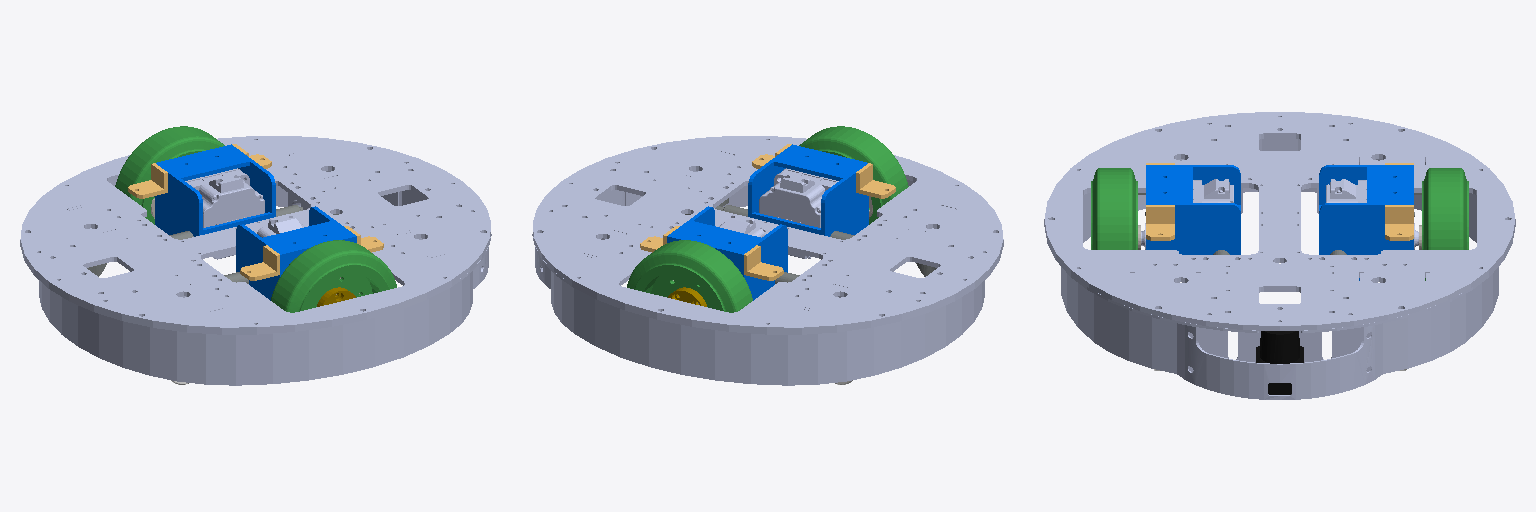
--- Render facts (derived) ---
The picture shows the robot from 3 angles, left to right: view 1: azimuth 30°, elevation 25°; view 2: azimuth 150°, elevation 25°; view 3: azimuth 270°, elevation 25°; orthographic projection.
Model okrobot_base with 49 links and 48 joints (10 continuous, 38 fixed), rooted at base_footprint, posed all joints at 0.
Links seen in each view (by area): view 1: base_link, circle_base_Link, motor_plate_frame_Link2, right_wheel_Link, motor_plate_frame_Link, left_wheel_Link, motor_back_Link2, side_plate_Link, side_plate_Link2, motor_back_Link; view 2: base_link, circle_base_Link, motor_plate_frame_Link, left_wheel_Link, motor_plate_frame_Link2, right_wheel_Link, motor_back_Link, side_plate_Link, side_plate_Link2, motor_back_Link2; view 3: base_link, circle_base_Link, circle_forward_Link, motor_plate_frame_Link2, motor_plate_frame_Link, left_wheel_Link, right_wheel_Link, laser_base_Link, side_plate_Link1, side_plate_Link3, motor_back_Link2, motor_back_Link.
Link boxes in pixels (x1,y1,x2,y2): base_link: (20,136,490,331); circle_base_Link: (20,171,491,385); motor_plate_frame_Link2: (155,144,275,236); right_wheel_Link: (271,240,396,312); motor_plate_frame_Link: (236,206,356,300); left_wheel_Link: (115,126,224,224); motor_back_Link2: (191,172,264,259); side_plate_Link: (240,245,279,280); side_plate_Link2: (128,163,167,198); motor_back_Link: (257,214,304,237); base_link: (533,136,1003,331); circle_base_Link: (532,171,1003,385); motor_plate_frame_Link: (748,144,868,236); left_wheel_Link: (627,240,752,312); motor_plate_frame_Link2: (667,206,787,300); right_wheel_Link: (799,126,908,224); motor_back_Link: (759,172,832,258); side_plate_Link: (856,163,895,198); side_plate_Link2: (744,245,783,280); motor_back_Link2: (719,214,765,237); base_link: (1044,112,1515,330); circle_base_Link: (1044,139,1515,373); circle_forward_Link: (1177,323,1382,399); motor_plate_frame_Link2: (1319,165,1413,280); motor_plate_frame_Link: (1146,165,1240,254); left_wheel_Link: (1422,168,1468,280); right_wheel_Link: (1091,168,1137,249); laser_base_Link: (1256,331,1303,394); side_plate_Link1: (1146,205,1174,240); side_plate_Link3: (1385,205,1413,240); motor_back_Link2: (1326,179,1365,202); motor_back_Link: (1194,179,1233,202).
Size in the robot's own frame: 0.555 by 0.5009 by 0.15 metres.
Meshes: 48 distinct files referenced, 47 mesh visuals loaded (47 binary STL); not drawn: 1 (reference not matched to a file when rendering).

The robot description file, URDF, robot "okrobot_base":
<?xml version="1.0" ?>
<robot
  name="okrobot_base">
  <link 
    name="base_footprint"/>
    <joint name="base_joint" type="fixed">
      <origin xyz="0 0 0.098" rpy="0 0 0" />
      <parent link="base_footprint"/>
      <child link="base_link" />
    </joint>
  <link
    name="base_link">
    <inertial>
      <origin
        xyz="-0.00018628340886144 1.53582507695403E-17 1.06192210597669E-19"
        rpy="0 0 0" />
      <mass
        value="0.865380956979762" />
      <inertia
        ixx="0.0142073495738409"
        ixy="5.27916405992731E-19"
        ixz="1.83297532949466E-18"
        iyy="0.0213255607737328"
        iyz="-3.52986998278532E-21"
        izz="0.0355277180618319" />
    </inertial>
    <visual>
      <origin
        xyz="0 0 0"
        rpy="0 0 0" />
      <geometry>
        <mesh
          filename="package://okrobot_description/meshes/okrobot_base/base_link.STL" />
      </geometry>
      <material
        name="">
        <color
          rgba="0.792156862745098 0.819607843137255 0.933333333333333 1" />
      </material>
    </visual>
    <collision>
      <origin
        xyz="0 0 0"
        rpy="0 0 0" />
      <geometry>
        <mesh
          filename="package://okrobot_description/meshes/okrobot_base/base_link.STL" />
      </geometry>
    </collision>
  </link>
  <link
    name="universal_wheel_seat_Link">
    <inertial>
      <origin
        xyz="-2.77555756156289E-17 -1.38777878078145E-17 -0.0130913380587656"
        rpy="0 0 0" />
      <mass
        value="0.0271543501807284" />
      <inertia
        ixx="1.99446658137709E-05"
        ixy="-1.59266733775314E-21"
        ixz="6.71426720479861E-22"
        iyy="6.77808483444652E-06"
        iyz="1.26265909795558E-21"
        izz="2.48042990210257E-05" />
    </inertial>
    <visual>
      <origin
        xyz="0 0 0"
        rpy="0 0 0" />
      <geometry>
        <mesh
          filename="package://okrobot_description/meshes/okrobot_base/universal_wheel_seat_Link.STL" />
      </geometry>
      <material
        name="">
        <color
          rgba="0.792156862745098 0.819607843137255 0.933333333333333 1" />
      </material>
    </visual>
    <collision>
      <origin
        xyz="0 0 0"
        rpy="0 0 0" />
      <geometry>
        <mesh
          filename="package://okrobot_description/meshes/okrobot_base/universal_wheel_seat_Link.STL" />
      </geometry>
    </collision>
  </link>
  <joint
    name="universal_wheel_seat_joint"
    type="fixed">
    <origin
      xyz="0.145 -0.12175 -0.00299999999999982"
      rpy="2.99234774727016E-65 -8.94466792300553E-17 -5.37368846090207E-34" />
    <parent
      link="base_link" />
    <child
      link="universal_wheel_seat_Link" />
    <axis
      xyz="0 0 0" />
  </joint>
  <link
    name="universal_wheel_base_Link">
    <inertial>
      <origin
        xyz="2.77555756156289E-17 0 -0.0042303117525837"
        rpy="0 0 0" />
      <mass
        value="0.0153964635164713" />
      <inertia
        ixx="3.79178475123496E-06"
        ixy="-1.7319094075329E-21"
        ixz="-3.04312357539511E-22"
        iyy="2.6828760693717E-06"
        iyz="-5.79339002434305E-23"
        izz="5.89114138712654E-06" />
    </inertial>
    <visual>
      <origin
        xyz="0 0 0"
        rpy="0 0 0" />
      <geometry>
        <mesh
          filename="package://okrobot_description/meshes/okrobot_base/universal_wheel_base_Link.STL" />
      </geometry>
      <material
        name="">
        <color
          rgba="0.529411764705882 0.549019607843137 0.549019607843137 1" />
      </material>
    </visual>
    <collision>
      <origin
        xyz="0 0 0"
        rpy="0 0 0" />
      <geometry>
        <mesh
          filename="package://okrobot_description/meshes/okrobot_base/universal_wheel_base_Link.STL" />
      </geometry>
    </collision>
  </link>
  <joint
    name="universal_wheel_base_joint"
    type="fixed">
    <origin
      xyz="0 0 -0.019"
      rpy="-9.35108671021913E-67 0 0" />
    <parent
      link="universal_wheel_seat_Link" />
    <child
      link="universal_wheel_base_Link" />
    <axis
      xyz="0 0 0" />
  </joint>
  <link
    name="universal_wheel_link_Link">
    <inertial>
      <origin
        xyz="0.00834757352565724 1.09108839628502E-06 -0.0118156292161553"
        rpy="0 0 0" />
      <mass
        value="0.012085171004579" />
      <inertia
        ixx="4.68160467144296E-06"
        ixy="-1.036330235877E-10"
        ixz="-1.22134830387681E-06"
        iyy="4.57707671214091E-06"
        iyz="2.7400639854387E-11"
        izz="4.67278533436171E-06" />
    </inertial>
    <visual>
      <origin
        xyz="0 0 0"
        rpy="0 0 0" />
      <geometry>
        <mesh
          filename="package://okrobot_description/meshes/okrobot_base/universal_wheel_link_Link.STL" />
      </geometry>
      <material
        name="">
        <color
          rgba="0.529411764705882 0.549019607843137 0.549019607843137 1" />
      </material>
    </visual>
    <collision>
      <origin
        xyz="0 0 0"
        rpy="0 0 0" />
      <geometry>
        <mesh
          filename="package://okrobot_description/meshes/okrobot_base/universal_wheel_link_Link.STL" />
      </geometry>
    </collision>
  </link>
  <joint
    name="universal_wheel_link_joint"
    type="continuous">
    <origin
      xyz="0 0 -0.0130000000000002"
      rpy="-9.35108671021913E-67 0 0" />
    <parent
      link="universal_wheel_base_Link" />
    <child
      link="universal_wheel_link_Link" />
    <axis
      xyz="0 0 -1" />
  </joint>
  <link
    name="universal_wheel_Link">
    <inertial>
      <origin
        xyz="-2.77555756156289E-17 4.16333634234434E-17 0"
        rpy="0 0 0" />
      <mass
        value="0.0482493837796942" />
      <inertia
        ixx="1.00224646248544E-05"
        ixy="1.0366645772579E-21"
        ixz="-7.19091022089001E-23"
        iyy="1.49297011222147E-05"
        iyz="-2.28750148250211E-21"
        izz="1.00224646248544E-05" />
    </inertial>
    <visual>
      <origin
        xyz="0 0 0"
        rpy="0 0 0" />
      <geometry>
        <mesh
          filename="package://okrobot_description/meshes/okrobot_base/universal_wheel_Link.STL" />
      </geometry>
      <material
        name="">
        <color
          rgba="1 1 1 1" />
      </material>
    </visual>
    <collision>
      <origin
        xyz="0 0 0"
        rpy="0 0 0" />
      <geometry>
        <mesh
          filename="package://okrobot_description/meshes/okrobot_base/universal_wheel_Link.STL" />
      </geometry>
    </collision>
  </link>
  <joint
    name="universal_wheel_joint"
    type="continuous">
    <origin
      xyz="0.023 0 -0.035"
      rpy="-9.35108671021913E-67 0 0" />
    <parent
      link="universal_wheel_link_Link" />
    <child
      link="universal_wheel_Link" />
    <axis
      xyz="0 1 0" />
  </joint>
  <link
    name="universal_wheel_seat_Link1">
    <inertial>
      <origin
        xyz="0 -1.38777878078145E-17 -0.0130913380587656"
        rpy="0 0 0" />
      <mass
        value="0.0271543501807284" />
      <inertia
        ixx="1.99446658137709E-05"
        ixy="-2.35678101241442E-21"
        ixz="-5.54046762392719E-22"
        iyy="6.77808483444652E-06"
        iyz="1.76397458692077E-22"
        izz="2.48042990210257E-05" />
    </inertial>
    <visual>
      <origin
        xyz="0 0 0"
        rpy="0 0 0" />
      <geometry>
        <mesh
          filename="package://okrobot_description/meshes/okrobot_base/universal_wheel_seat_Link1.STL" />
      </geometry>
      <material
        name="">
        <color
          rgba="0.792156862745098 0.819607843137255 0.933333333333333 1" />
      </material>
    </visual>
    <collision>
      <origin
        xyz="0 0 0"
        rpy="0 0 0" />
      <geometry>
        <mesh
          filename="package://okrobot_description/meshes/okrobot_base/universal_wheel_seat_Link1.STL" />
      </geometry>
    </collision>
  </link>
  <joint
    name="universal_wheel_seat_joint1"
    type="fixed">
    <origin
      xyz="0.145 0.12225 -0.00299999999999984"
      rpy="2.99234774727016E-65 -8.94466792300553E-17 -5.37368846090207E-34" />
    <parent
      link="base_link" />
    <child
      link="universal_wheel_seat_Link1" />
    <axis
      xyz="0 0 0" />
  </joint>
  <link
    name="universal_wheel_base_Link1">
    <inertial>
      <origin
        xyz="2.77555756156289E-17 0 -0.00423031175258369"
        rpy="0 0 0" />
      <mass
        value="0.0153964635164713" />
      <inertia
        ixx="3.79178475123496E-06"
        ixy="-3.36042123849667E-22"
        ixz="-4.18643845963271E-22"
        iyy="2.6828760693717E-06"
        iyz="-8.56926419482166E-22"
        izz="5.89114138712654E-06" />
    </inertial>
    <visual>
      <origin
        xyz="0 0 0"
        rpy="0 0 0" />
      <geometry>
        <mesh
          filename="package://okrobot_description/meshes/okrobot_base/universal_wheel_base_Link1.STL" />
      </geometry>
      <material
        name="">
        <color
          rgba="0.529411764705882 0.549019607843137 0.549019607843137 1" />
      </material>
    </visual>
    <collision>
      <origin
        xyz="0 0 0"
        rpy="0 0 0" />
      <geometry>
        <mesh
          filename="package://okrobot_description/meshes/okrobot_base/universal_wheel_base_Link1.STL" />
      </geometry>
    </collision>
  </link>
  <joint
    name="universal_wheel_base_joint1"
    type="fixed">
    <origin
      xyz="0 0 -0.0189999999999999"
      rpy="-9.35108671021913E-67 0 0" />
    <parent
      link="universal_wheel_seat_Link1" />
    <child
      link="universal_wheel_base_Link1" />
    <axis
      xyz="0 0 0" />
  </joint>
  <link
    name="universal_wheel_link_Link1">
    <inertial>
      <origin
        xyz="0.00834757352565721 1.09108839628502E-06 -0.0118156292161552"
        rpy="0 0 0" />
      <mass
        value="0.0120851710045789" />
      <inertia
        ixx="4.68160467144293E-06"
        ixy="-1.03633023591078E-10"
        ixz="-1.22134830387681E-06"
        iyy="4.57707671214091E-06"
        iyz="2.74006398603816E-11"
        izz="4.6727853343617E-06" />
    </inertial>
    <visual>
      <origin
        xyz="0 0 0"
        rpy="0 0 0" />
      <geometry>
        <mesh
          filename="package://okrobot_description/meshes/okrobot_base/universal_wheel_link_Link1.STL" />
      </geometry>
      <material
        name="">
        <color
          rgba="0.529411764705882 0.549019607843137 0.549019607843137 1" />
      </material>
    </visual>
    <collision>
      <origin
        xyz="0 0 0"
        rpy="0 0 0" />
      <geometry>
        <mesh
          filename="package://okrobot_description/meshes/okrobot_base/universal_wheel_link_Link1.STL" />
      </geometry>
    </collision>
  </link>
  <joint
    name="universal_wheel_link_joint1"
    type="continuous">
    <origin
      xyz="0 0 -0.0130000000000004"
      rpy="-9.35108671021913E-67 0 0" />
    <parent
      link="universal_wheel_base_Link1" />
    <child
      link="universal_wheel_link_Link1" />
    <axis
      xyz="0 0 -1" />
  </joint>
  <link
    name="universal_wheel_Link1">
    <inertial>
      <origin
        xyz="0 2.77555756156289E-17 0"
        rpy="0 0 0" />
      <mass
        value="0.0482493837796942" />
      <inertia
        ixx="1.00224646248544E-05"
        ixy="-1.4323308482338E-21"
        ixz="-4.05642781850284E-23"
        iyy="1.49297011222147E-05"
        iyz="2.49504792020332E-21"
        izz="1.00224646248544E-05" />
    </inertial>
    <visual>
      <origin
        xyz="0 0 0"
        rpy="0 0 0" />
      <geometry>
        <mesh
          filename="package://okrobot_description/meshes/okrobot_base/universal_wheel_Link1.STL" />
      </geometry>
      <material
        name="">
        <color
          rgba="1 1 1 1" />
      </material>
    </visual>
    <collision>
      <origin
        xyz="0 0 0"
        rpy="0 0 0" />
      <geometry>
        <mesh
          filename="package://okrobot_description/meshes/okrobot_base/universal_wheel_Link1.STL" />
      </geometry>
    </collision>
  </link>
  <joint
    name="universal_wheel_joint1"
    type="continuous">
    <origin
      xyz="0.023 0 -0.035"
      rpy="-9.35108671021913E-67 0 0" />
    <parent
      link="universal_wheel_link_Link1" />
    <child
      link="universal_wheel_Link1" />
    <axis
      xyz="0 1 0" />
  </joint>
  <link
    name="universal_wheel_seat_Link2">
    <inertial>
      <origin
        xyz="2.77555756156289E-17 -1.38777878078145E-17 -0.0130913380587656"
        rpy="0 0 0" />
      <mass
        value="0.0271543501807284" />
      <inertia
        ixx="1.99446658137709E-05"
        ixy="2.46352784259122E-21"
        ixz="-1.45056681978495E-21"
        iyy="6.77808483444652E-06"
        iyz="2.35435448440314E-21"
        izz="2.48042990210257E-05" />
    </inertial>
    <visual>
      <origin
        xyz="0 0 0"
        rpy="0 0 0" />
      <geometry>
        <mesh
          filename="package://okrobot_description/meshes/okrobot_base/universal_wheel_seat_Link2.STL" />
      </geometry>
      <material
        name="">
        <color
          rgba="0.792156862745098 0.819607843137255 0.933333333333333 1" />
      </material>
    </visual>
    <collision>
      <origin
        xyz="0 0 0"
        rpy="0 0 0" />
      <geometry>
        <mesh
          filename="package://okrobot_description/meshes/okrobot_base/universal_wheel_seat_Link2.STL" />
      </geometry>
    </collision>
  </link>
  <joint
    name="universal_wheel_seat_joint2"
    type="fixed">
    <origin
      xyz="-0.145 0.12225 -0.0029999999999999"
      rpy="2.99234774727016E-65 -8.94466792300553E-17 -5.37368846090207E-34" />
    <parent
      link="base_link" />
    <child
      link="universal_wheel_seat_Link2" />
    <axis
      xyz="0 0 0" />
  </joint>
  <link
    name="universal_wheel_base_Link2">
    <inertial>
      <origin
        xyz="0 0 -0.0042303117525837"
        rpy="0 0 0" />
      <mass
        value="0.0153964635164713" />
      <inertia
        ixx="3.79178475123496E-06"
        ixy="-7.75481824268463E-23"
        ixz="-1.81037742477628E-22"
        iyy="2.6828760693717E-06"
        iyz="8.67756125169041E-22"
        izz="5.89114138712653E-06" />
    </inertial>
    <visual>
      <origin
        xyz="0 0 0"
        rpy="0 0 0" />
      <geometry>
        <mesh
          filename="package://okrobot_description/meshes/okrobot_base/universal_wheel_base_Link2.STL" />
      </geometry>
      <material
        name="">
        <color
          rgba="0.529411764705882 0.549019607843137 0.549019607843137 1" />
      </material>
    </visual>
    <collision>
      <origin
        xyz="0 0 0"
        rpy="0 0 0" />
      <geometry>
        <mesh
          filename="package://okrobot_description/meshes/okrobot_base/universal_wheel_base_Link2.STL" />
      </geometry>
    </collision>
  </link>
  <joint
    name="universal_wheel_base_joint2"
    type="fixed">
    <origin
      xyz="0 0 -0.019"
      rpy="-9.35108671021913E-67 0 0" />
    <parent
      link="universal_wheel_seat_Link2" />
    <child
      link="universal_wheel_base_Link2" />
    <axis
      xyz="0 0 0" />
  </joint>
  <link
    name="universal_wheel_link_Link2">
    <inertial>
      <origin
        xyz="-0.00834757352565726 -1.09108839627114E-06 -0.0118156292161552"
        rpy="0 0 0" />
      <mass
        value="0.0120851710045788" />
      <inertia
        ixx="4.68160467144289E-06"
        ixy="-1.03633023595982E-10"
        ixz="1.22134830387679E-06"
        iyy="4.57707671214089E-06"
        iyz="-2.74006398627377E-11"
        izz="4.67278533436167E-06" />
    </inertial>
    <visual>
      <origin
        xyz="0 0 0"
        rpy="0 0 0" />
      <geometry>
        <mesh
          filename="package://okrobot_description/meshes/okrobot_base/universal_wheel_link_Link2.STL" />
      </geometry>
      <material
        name="">
        <color
          rgba="0.529411764705882 0.549019607843137 0.549019607843137 1" />
      </material>
    </visual>
    <collision>
      <origin
        xyz="0 0 0"
        rpy="0 0 0" />
      <geometry>
        <mesh
          filename="package://okrobot_description/meshes/okrobot_base/universal_wheel_link_Link2.STL" />
      </geometry>
    </collision>
  </link>
  <joint
    name="universal_wheel_link_joint2"
    type="continuous">
    <origin
      xyz="0 0 -0.0130000000000001"
      rpy="-9.35108671021913E-67 0 0" />
    <parent
      link="universal_wheel_base_Link2" />
    <child
      link="universal_wheel_link_Link2" />
    <axis
      xyz="0 0 -1" />
  </joint>
  <link
    name="universal_wheel_Link2">
    <inertial>
      <origin
        xyz="2.77555756156289E-17 -1.38777878078145E-17 0"
        rpy="0 0 0" />
      <mass
        value="0.0482493837796942" />
      <inertia
        ixx="1.00224646248544E-05"
        ixy="-6.83485291635712E-22"
        ixz="-1.3715192213029E-22"
        iyy="1.49297011222147E-05"
        iyz="-2.76354533233335E-21"
        izz="1.00224646248544E-05" />
    </inertial>
    <visual>
      <origin
        xyz="0 0 0"
        rpy="0 0 0" />
      <geometry>
        <mesh
          filename="package://okrobot_description/meshes/okrobot_base/universal_wheel_Link2.STL" />
      </geometry>
      <material
        name="">
        <color
          rgba="1 1 1 1" />
      </material>
    </visual>
    <collision>
      <origin
        xyz="0 0 0"
        rpy="0 0 0" />
      <geometry>
        <mesh
          filename="package://okrobot_description/meshes/okrobot_base/universal_wheel_Link2.STL" />
      </geometry>
    </collision>
  </link>
  <joint
    name="universal_wheel_joint2"
    type="continuous">
    <origin
      xyz="-0.023 0 -0.035"
      rpy="-9.35108671021913E-67 0 0" />
    <parent
      link="universal_wheel_link_Link2" />
    <child
      link="universal_wheel_Link2" />
    <axis
      xyz="0 -1 0" />
  </joint>
  <link
    name="universal_wheel_seat_Link3">
    <inertial>
      <origin
        xyz="0 0 -0.0130913380587656"
        rpy="0 0 0" />
      <mass
        value="0.0271543501807284" />
      <inertia
        ixx="1.99446658137709E-05"
        ixy="7.68863448827482E-21"
        ixz="-4.65683553378676E-22"
        iyy="6.77808483444652E-06"
        iyz="-4.53767016907936E-21"
        izz="2.48042990210257E-05" />
    </inertial>
    <visual>
      <origin
        xyz="0 0 0"
        rpy="0 0 0" />
      <geometry>
        <mesh
          filename="package://okrobot_description/meshes/okrobot_base/universal_wheel_seat_Link3.STL" />
      </geometry>
      <material
        name="">
        <color
          rgba="0.792156862745098 0.819607843137255 0.933333333333333 1" />
      </material>
    </visual>
    <collision>
      <origin
        xyz="0 0 0"
        rpy="0 0 0" />
      <geometry>
        <mesh
          filename="package://okrobot_description/meshes/okrobot_base/universal_wheel_seat_Link3.STL" />
      </geometry>
    </collision>
  </link>
  <joint
    name="universal_wheel_seat_joint3"
    type="fixed">
    <origin
      xyz="-0.145 -0.12175 -0.00300000000000002"
      rpy="2.99234774727016E-65 -8.94466792300553E-17 -5.37368846090207E-34" />
    <parent
      link="base_link" />
    <child
      link="universal_wheel_seat_Link3" />
    <axis
      xyz="0 0 0" />
  </joint>
  <link
    name="universal_wheel_base_Link3">
    <inertial>
      <origin
        xyz="0 1.38777878078145E-17 -0.00423031175258369"
        rpy="0 0 0" />
      <mass
        value="0.0153964635164713" />
      <inertia
        ixx="3.79178475123496E-06"
        ixy="7.88406521339604E-22"
        ixz="-4.82062462000336E-22"
        iyy="2.6828760693717E-06"
        iyz="-7.75024998084907E-22"
        izz="5.89114138712653E-06" />
    </inertial>
    <visual>
      <origin
        xyz="0 0 0"
        rpy="0 0 0" />
      <geometry>
        <mesh
          filename="package://okrobot_description/meshes/okrobot_base/universal_wheel_base_Link3.STL" />
      </geometry>
      <material
        name="">
        <color
          rgba="0.529411764705882 0.549019607843137 0.549019607843137 1" />
      </material>
    </visual>
    <collision>
      <origin
        xyz="0 0 0"
        rpy="0 0 0" />
      <geometry>
        <mesh
          filename="package://okrobot_description/meshes/okrobot_base/universal_wheel_base_Link3.STL" />
      </geometry>
    </collision>
  </link>
  <joint
    name="universal_wheel_base_joint3"
    type="fixed">
    <origin
      xyz="0 0 -0.0189999999999996"
      rpy="-9.35108671021913E-67 0 0" />
    <parent
      link="universal_wheel_seat_Link3" />
    <child
      link="universal_wheel_base_Link3" />
    <axis
      xyz="0 0 0" />
  </joint>
  <link
    name="universal_wheel_link_Link3">
    <inertial>
      <origin
        xyz="-0.00834757352565726 -1.0910883962989E-06 -0.0118156292161553"
        rpy="0 0 0" />
      <mass
        value="0.0120851710045788" />
      <inertia
        ixx="4.68160467144292E-06"
        ixy="-1.03633023587043E-10"
        ixz="1.22134830387681E-06"
        iyy="4.5770767121409E-06"
        iyz="-2.74006398520829E-11"
        izz="4.67278533436167E-06" />
    </inertial>
    <visual>
      <origin
        xyz="0 0 0"
        rpy="0 0 0" />
      <geometry>
        <mesh
          filename="package://okrobot_description/meshes/okrobot_base/universal_wheel_link_Link3.STL" />
      </geometry>
      <material
        name="">
        <color
          rgba="0.529411764705882 0.549019607843137 0.549019607843137 1" />
      </material>
    </visual>
    <collision>
      <origin
        xyz="0 0 0"
        rpy="0 0 0" />
      <geometry>
        <mesh
          filename="package://okrobot_description/meshes/okrobot_base/universal_wheel_link_Link3.STL" />
      </geometry>
    </collision>
  </link>
  <joint
    name="universal_wheel_link_joint3"
    type="continuous">
    <origin
      xyz="0 0 -0.0130000000000002"
      rpy="-9.35108671021913E-67 0 0" />
    <parent
      link="universal_wheel_base_Link3" />
    <child
      link="universal_wheel_link_Link3" />
    <axis
      xyz="0 0 -1" />
  </joint>
  <link
    name="universal_wheel_Link3">
    <inertial>
      <origin
        xyz="0 -5.55111512312578E-17 0"
        rpy="0 0 0" />
      <mass
        value="0.0482493837796942" />
      <inertia
        ixx="1.00224646248544E-05"
        ixy="-1.79287600841154E-22"
        ixz="9.35712268639441E-22"
        iyy="1.49297011222147E-05"
        iyz="1.8451388009825E-21"
        izz="1.00224646248544E-05" />
    </inertial>
    <visual>
      <origin
        xyz="0 0 0"
        rpy="0 0 0" />
      <geometry>
        <mesh
          filename="package://okrobot_description/meshes/okrobot_base/universal_wheel_Link3.STL" />
      </geometry>
      <material
        name="">
        <color
          rgba="1 1 1 1" />
      </material>
    </visual>
    <collision>
      <origin
        xyz="0 0 0"
        rpy="0 0 0" />
      <geometry>
        <mesh
          filename="package://okrobot_description/meshes/okrobot_base/universal_wheel_Link3.STL" />
      </geometry>
    </collision>
  </link>
  <joint
    name="universal_wheel_joint3"
    type="continuous">
    <origin
      xyz="-0.0230000000000001 0 -0.035"
      rpy="-9.35108671021913E-67 0 0" />
    <parent
      link="universal_wheel_link_Link3" />
    <child
      link="universal_wheel_Link3" />
    <axis
      xyz="0 -1 0" />
  </joint>
  <link
    name="motor_seat_Link">
    <inertial>
      <origin
        xyz="-0.000939237456581282 2.22044604925031E-16 -0.0175085667959579"
        rpy="0 0 0" />
      <mass
        value="0.0189292474445598" />
      <inertia
        ixx="6.26207958214669E-06"
        ixy="1.2068820881464E-20"
        ixz="-9.04183867655058E-09"
        iyy="2.82510436257498E-06"
        iyz="1.53417575962244E-20"
        izz="4.5184184333863E-06" />
    </inertial>
    <visual>
      <origin
        xyz="0 0 0"
        rpy="0 0 0" />
      <geometry>
        <mesh
          filename="package://okrobot_description/meshes/okrobot_base/motor_seat_Link.STL" />
      </geometry>
      <material
        name="">
        <color
          rgba="0.792156862745098 0.819607843137255 0.933333333333333 1" />
      </material>
    </visual>
    <collision>
      <origin
        xyz="0 0 0"
        rpy="0 0 0" />
      <geometry>
        <mesh
          filename="package://okrobot_description/meshes/okrobot_base/motor_seat_Link.STL" />
      </geometry>
    </collision>
  </link>
  <joint
    name="motor_seat_joint"
    type="fixed">
    <origin
      xyz="-0.1 -0.0619999999999998 -0.00300000000000001"
      rpy="2.99234774727016E-65 -8.94466792300553E-17 -5.37368846090207E-34" />
    <parent
      link="base_link" />
    <child
      link="motor_seat_Link" />
    <axis
      xyz="0 0 0" />
  </joint>
  <link
    name="motor_seat_plate_Link">
    <inertial>
      <origin
        xyz="0.0370584293025813 0 -1.38777878078145E-17"
        rpy="0 0 0" />
      <mass
        value="0.0163676977252262" />
      <inertia
        ixx="7.37038999362734E-07"
        ixy="7.3646483853228E-22"
        ixz="7.57089651114586E-23"
        iyy="4.75627979379093E-06"
        iyz="3.21378071159452E-23"
        izz="4.75627979379093E-06" />
    </inertial>
    <visual>
      <origin
        xyz="0 0 0"
        rpy="0 0 0" />
      <geometry>
        <mesh
          filename="package://okrobot_description/meshes/okrobot_base/motor_seat_plate_Link.STL" />
      </geometry>
      <material
        name="">
        <color
          rgba="0.529411764705882 0.549019607843137 0.549019607843137 1" />
      </material>
    </visual>
    <collision>
      <origin
        xyz="0 0 0"
        rpy="0 0 0" />
      <geometry>
        <mesh
          filename="package://okrobot_description/meshes/okrobot_base/motor_seat_plate_Link.STL" />
      </geometry>
    </collision>
  </link>
  <joint
    name="motor_seat_plate_joint"
    type="fixed">
    <origin
      xyz="-0.00899999999999984 0 -0.017"
      rpy="-9.35108671021913E-67 0 0" />
    <parent
      link="motor_seat_Link" />
    <child
      link="motor_seat_plate_Link" />
    <axis
      xyz="0 0 0" />
  </joint>
  <link
    name="motor_plate_frame_Link">
    <inertial>
      <origin
        xyz="2.12886522910629E-17 0.0407081867798832 0.0507536404432316"
        rpy="0 0 0" />
      <mass
        value="0.152933426878464" />
      <inertia
        ixx="0.000291366836290034"
        ixy="7.1485358548968E-20"
        ixz="-3.56243096756935E-20"
        iyy="0.000361614923679844"
        iyz="-2.87845041329261E-05"
        izz="0.000421194704644509" />
    </inertial>
    <visual>
      <origin
        xyz="0 0 0"
        rpy="0 0 0" />
      <geometry>
        <mesh
          filename="package://okrobot_description/meshes/okrobot_base/motor_plate_frame_Link.STL" />
      </geometry>
      <material
        name="">
        <color
          rgba="0 0.501960784313725 1 1" />
      </material>
    </visual>
    <collision>
      <origin
        xyz="0 0 0"
        rpy="0 0 0" />
      <geometry>
        <mesh
          filename="package://okrobot_description/meshes/okrobot_base/motor_plate_frame_Link.STL" />
      </geometry>
    </collision>
  </link>
  <joint
    name="motor_plate_frame_joint"
    type="fixed">
    <origin
      xyz="0.109 -0.08 -0.027"
      rpy="-9.35108671021913E-67 0 0" />
    <parent
      link="motor_seat_plate_Link" />
    <child
      link="motor_plate_frame_Link" />
    <axis
      xyz="0 0 0" />
  </joint>
  <link
    name="motor_frame_plate_Link">
    <inertial>
      <origin
        xyz="-0.0370584293025813 0 1.38777878078145E-17"
        rpy="0 0 0" />
      <mass
        value="0.0163676977252262" />
      <inertia
        ixx="7.37038999362733E-07"
        ixy="3.16165464975608E-22"
        ixz="5.97513911267727E-22"
        iyy="4.75627979379092E-06"
        iyz="1.89865222061709E-23"
        izz="4.75627979379092E-06" />
    </inertial>
    <visual>
      <origin
        xyz="0 0 0"
        rpy="0 0 0" />
      <geometry>
        <mesh
          filename="package://okrobot_description/meshes/okrobot_base/motor_frame_plate_Link.STL" />
      </geometry>
      <material
        name="">
        <color
          rgba="0.529411764705882 0.549019607843137 0.549019607843137 1" />
      </material>
    </visual>
    <collision>
      <origin
        xyz="0 0 0"
        rpy="0 0 0" />
      <geometry>
        <mesh
          filename="package://okrobot_description/meshes/okrobot_base/motor_frame_plate_Link.STL" />
      </geometry>
    </collision>
  </link>
  <joint
    name="motor_frame_plate_joint"
    type="fixed">
    <origin
      xyz="0.109 0.08 0.027"
      rpy="-9.35108671021913E-67 0 0" />
    <parent
      link="motor_plate_frame_Link" />
    <child
      link="motor_frame_plate_Link" />
    <axis
      xyz="0 0 0" />
  </joint>
  <link
    name="motor_frame_forward_Link">
    <inertial>
      <origin
        xyz="-2.28823057374386E-07 0.0217822138287097 2.17578695960192E-05"
        rpy="0 0 0" />
      <mass
        value="0.262675015460882" />
      <inertia
        ixx="0.000181760474130219"
        ixy="1.27919087547956E-09"
        ixz="-1.0219736270917E-09"
        iyy="0.000277158837880514"
        iyz="9.43925357548189E-07"
        izz="0.000181814109013926" />
    </inertial>
    <visual>
      <origin
        xyz="0 0 0"
        rpy="0 0 0" />
      <geometry>
        <mesh
          filename="package://okrobot_description/meshes/okrobot_base/motor_frame_forward_Link.STL" />
      </geometry>
      <material
        name="">
        <color
          rgba="0.792156862745098 0.819607843137255 0.933333333333333 1" />
      </material>
    </visual>
    <collision>
      <origin
        xyz="0 0 0"
        rpy="0 0 0" />
      <geometry>
        <mesh
          filename="package://okrobot_description/meshes/okrobot_base/motor_frame_forward_Link.STL" />
      </geometry>
    </collision>
  </link>
  <joint
    name="motor_frame_forward_joint"
    type="fixed">
    <origin
      xyz="0 0.005 0.040000000000002"
      rpy="-9.35108671021913E-67 0 0" />
    <parent
      link="motor_plate_frame_Link" />
    <child
      link="motor_frame_forward_Link" />
    <axis
      xyz="0 0 0" />
  </joint>
  <link
    name="motor_back_Link">
    <inertial>
      <origin
        xyz="1.27726567870573E-06 0.0202811504403952 0.00120300473583097"
        rpy="0 0 0" />
      <mass
        value="0.254768799165078" />
      <inertia
        ixx="0.000170091511491632"
        ixy="7.15155895339047E-09"
        ixz="-5.88047241025803E-10"
        iyy="0.000246895063025196"
        iyz="1.65415888667539E-06"
        izz="0.000157235815301286" />
    </inertial>
    <visual>
      <origin
        xyz="0 0 0"
        rpy="0 0 0" />
      <geometry>
        <mesh
          filename="package://okrobot_description/meshes/okrobot_base/motor_back_Link.STL" />
      </geometry>
      <material
        name="">
        <color
          rgba="0.792156862745098 0.819607843137255 0.933333333333333 1" />
      </material>
    </visual>
    <collision>
      <origin
        xyz="0 0 0"
        rpy="0 0 0" />
      <geometry>
        <mesh
          filename="package://okrobot_description/meshes/okrobot_base/motor_back_Link.STL" />
      </geometry>
    </collision>
  </link>
  <joint
    name="motor_back_joint"
    type="fixed">
    <origin
      xyz="0 0.046 0"
      rpy="-9.35108671021913E-67 0 0" />
    <parent
      link="motor_frame_forward_Link" />
    <child
      link="motor_back_Link" />
    <axis
      xyz="0 0 0" />
  </joint>
  <link
    name="axiz_axiz_Link">
    <inertial>
      <origin
        xyz="4.33161889706401E-05 -0.0249080655234863 0.000169768194055099"
        rpy="0 0 0" />
      <mass
        value="0.0117504819322063" />
      <inertia
        ixx="3.20914054664418E-06"
        ixy="-1.0554320138487E-08"
        ixz="-2.90270999431271E-09"
        iyy="4.38059866460303E-07"
        iyz="-4.13650645496704E-08"
        izz="3.21977645510639E-06" />
    </inertial>
    <visual>
      <origin
        xyz="0 0 0"
        rpy="0 0 0" />
      <geometry>
        <mesh
          filename="package://okrobot_description/meshes/okrobot_base/axiz_axiz_Link.STL" />
      </geometry>
      <material
        name="">
        <color
          rgba="0.792156862745098 0.819607843137255 0.933333333333333 1" />
      </material>
    </visual>
    <collision>
      <origin
        xyz="0 0 0"
        rpy="0 0 0" />
      <geometry>
        <mesh
          filename="package://okrobot_description/meshes/okrobot_base/axiz_axiz_Link.STL" />
      </geometry>
    </collision>
  </link>
  <joint
    name="axiz_axiz_joint"
    type="fixed">
    <origin
      xyz="0 0.023 -0.013"
      rpy="-9.35108671021913E-67 0 0" />
    <parent
      link="motor_frame_forward_Link" />
    <child
      link="axiz_axiz_Link" />
    <axis
      xyz="0 0 0" />
  </joint>
  <link
    name="right_key_Link">
    <inertial>
      <origin
        xyz="0.000618077971090349 -0.0102363418468253 0.00242239130234347"
        rpy="0 0 0" />
      <mass
        value="0.000596379789496703" />
      <inertia
        ixx="3.07388849013603E-08"
        ixy="3.20890992477914E-20"
        ixz="4.93846825795047E-12"
        iyy="2.37011369366893E-09"
        iyz="8.27401507441319E-21"
        izz="3.07207899558688E-08" />
    </inertial>
    <visual>
      <origin
        xyz="0 0 0"
        rpy="0 0 0" />
      <geometry>
        <mesh
          filename="package://okrobot_description/meshes/okrobot_base/right_key_Link.STL" />
      </geometry>
      <material
        name="">
        <color
          rgba="0.792156862745098 0.819607843137255 0.933333333333333 1" />
      </material>
    </visual>
    <collision>
      <origin
        xyz="0 0 0"
        rpy="0 0 0" />
      <geometry>
        <mesh
          filename="package://okrobot_description/meshes/okrobot_base/right_key_Link.STL" />
      </geometry>
    </collision>
  </link>
  <joint
    name="right_key_joint"
    type="fixed">
    <origin
      xyz="-0.00234869629013112 -0.0355 -0.00920508694889539"
      rpy="-9.35108671021913E-67 0 0" />
    <parent
      link="axiz_axiz_Link" />
    <child
      link="right_key_Link" />
    <axis
      xyz="0 0 0" />
  </joint>
  <link
    name="right_axie_plate_Link">
    <inertial>
      <origin
        xyz="-9.39809084689708E-19 0.00571246103379328 3.46944695195361E-18"
        rpy="0 0 0" />
      <mass
        value="0.0174717895193497" />
      <inertia
        ixx="2.82149851734939E-06"
        ixy="4.24036341072597E-22"
        ixz="-2.36198581722289E-23"
        iyy="5.22266278242472E-06"
        iyz="-1.33015679188105E-22"
        izz="2.82149851734939E-06" />
    </inertial>
    <visual>
      <origin
        xyz="0 0 0"
        rpy="0 0 0" />
      <geometry>
        <mesh
          filename="package://okrobot_description/meshes/okrobot_base/right_axie_plate_Link.STL" />
      </geometry>
      <material
        name="">
        <color
          rgba="0.647058823529412 0.517647058823529 0 1" />
      </material>
    </visual>
    <collision>
      <origin
        xyz="0 0 0"
        rpy="0 0 0" />
      <geometry>
        <mesh
          filename="package://okrobot_description/meshes/okrobot_base/right_axie_plate_Link.STL" />
      </geometry>
    </collision>
  </link>
  <joint
    name="right_axie_plate_joint"
    type="fixed">
    <origin
      xyz="0 -0.075 0"
      rpy="-9.35108671021913E-67 0 0" />
    <parent
      link="axiz_axiz_Link" />
    <child
      link="right_axie_plate_Link" />
    <axis
      xyz="0 0 0" />
  </joint>
  <link
    name="right_plate_flate_Link">
    <inertial>
      <origin
        xyz="1.74545703695463E-05 -0.0213755034456513 6.84084347233986E-05"
        rpy="0 0 0" />
      <mass
        value="0.0413400219550374" />
      <inertia
        ixx="1.36334173134446E-05"
        ixy="3.39196773423731E-09"
        ixz="-5.89884624400016E-09"
        iyy="2.35587844456605E-05"
        iyz="1.32937102927613E-08"
        izz="1.36550313056858E-05" />
    </inertial>
    <visual>
      <origin
        xyz="0 0 0"
        rpy="0 0 0" />
      <geometry>
        <mesh
          filename="package://okrobot_description/meshes/okrobot_base/right_plate_flate_Link.STL" />
      </geometry>
      <material
        name="">
        <color
          rgba="0.776470588235294 0.756862745098039 0.737254901960784 1" />
      </material>
    </visual>
    <collision>
      <origin
        xyz="0 0 0"
        rpy="0 0 0" />
      <geometry>
        <mesh
          filename="package://okrobot_description/meshes/okrobot_base/right_plate_flate_Link.STL" />
      </geometry>
    </collision>
  </link>
  <joint
    name="right_plate_flate_joint"
    type="fixed">
    <origin
      xyz="0 0.041 0"
      rpy="-9.35108671021913E-67 0 0" />
    <parent
      link="right_axie_plate_Link" />
    <child
      link="right_plate_flate_Link" />
    <axis
      xyz="0 0 0" />
  </joint>
  <link
    name="right_wheel_Link">
    <inertial>
      <origin
        xyz="1.19994576649211E-11 2.77555756156289E-17 3.42672418218726E-12"
        rpy="0 0 0" />
      <mass
        value="0.474314075022242" />
      <inertia
        ixx="0.000976484826943806"
        ixy="4.65992994449456E-11"
        ixz="9.31112695318243E-20"
        iyy="0.00180041098789272"
        iyz="-1.64649688860774E-10"
        izz="0.000976484826943806" />
    </inertial>
    <visual>
      <origin
        xyz="0 0 0"
        rpy="0 0 0" />
      <geometry>
        <mesh
          filename="package://okrobot_description/meshes/okrobot_base/right_wheel_Link.STL" />
      </geometry>
      <material
        name="">
        <color
          rgba="0.282352941176471 0.662745098039216 0.325490196078431 1" />
      </material>
    </visual>
    <collision>
      <origin
        xyz="0 0 0"
        rpy="0 0 0" />
      <geometry>
        <mesh
          filename="package://okrobot_description/meshes/okrobot_base/right_wheel_Link.STL" />
      </geometry>
    </collision>
  </link>
  <joint
    name="right_wheel_joint"
    type="continuous">
    <origin
      xyz="0 -0.028 0"
      rpy="-9.35108671021913E-67 0 0" />
    <parent
      link="right_plate_flate_Link" />
    <child
      link="right_wheel_Link" />
    <axis
      xyz="0 1 0" />
  </joint>
  <link
    name="side_plate_Link">
    <inertial>
      <origin
        xyz="-0.0127315168909433 0 0.00692908382238111"
        rpy="0 0 0" />
      <mass
        value="0.0084667623156068" />
      <inertia
        ixx="1.04396615516139E-06"
        ixy="3.32263329897079E-22"
        ixz="3.83681883410377E-07"
        iyy="1.53404870661137E-06"
        iyz="3.00566315499569E-23"
        izz="1.74991797213631E-06" />
    </inertial>
    <visual>
      <origin
        xyz="0 0 0"
        rpy="0 0 0" />
      <geometry>
        <mesh
          filename="package://okrobot_description/meshes/okrobot_base/side_plate_Link.STL" />
      </geometry>
      <material
        name="">
        <color
          rgba="1 0.807843137254902 0.498039215686275 1" />
      </material>
    </visual>
    <collision>
      <origin
        xyz="0 0 0"
        rpy="0 0 0" />
      <geometry>
        <mesh
          filename="package://okrobot_description/meshes/okrobot_base/side_plate_Link.STL" />
      </geometry>
    </collision>
  </link>
  <joint
    name="side_plate_joint"
    type="fixed">
    <origin
      xyz="-0.05 0.015 0.065"
      rpy="-9.35108671021913E-67 0 0" />
    <parent
      link="motor_plate_frame_Link" />
    <child
      link="side_plate_Link" />
    <axis
      xyz="0 0 0" />
  </joint>
  <link
    name="side_plate_Link1">
    <inertial>
      <origin
        xyz="0.0127315168909434 0 0.0069290838223811"
        rpy="0 0 0" />
      <mass
        value="0.0084667623156068" />
      <inertia
        ixx="1.04396615516139E-06"
        ixy="4.63637309485589E-22"
        ixz="-3.83681883410377E-07"
        iyy="1.53404870661137E-06"
        iyz="1.85844876421047E-22"
        izz="1.74991797213631E-06" />
    </inertial>
    <visual>
      <origin
        xyz="0 0 0"
        rpy="0 0 0" />
      <geometry>
        <mesh
          filename="package://okrobot_description/meshes/okrobot_base/side_plate_Link1.STL" />
      </geometry>
      <material
        name="">
        <color
          rgba="1 0.807843137254902 0.498039215686275 1" />
      </material>
    </visual>
    <collision>
      <origin
        xyz="0 0 0"
        rpy="0 0 0" />
      <geometry>
        <mesh
          filename="package://okrobot_description/meshes/okrobot_base/side_plate_Link1.STL" />
      </geometry>
    </collision>
  </link>
  <joint
    name="side_plate_joint1"
    type="fixed">
    <origin
      xyz="0.05 0.015 0.065"
      rpy="-9.35108671021913E-67 0 0" />
    <parent
      link="motor_plate_frame_Link" />
    <child
      link="side_plate_Link1" />
    <axis
      xyz="0 0 0" />
  </joint>
  <link
    name="motor_seat_Link1">
    <inertial>
      <origin
        xyz="0.000939237456581296 -2.35922392732846E-16 -0.0175085667959579"
        rpy="0 0 0" />
      <mass
        value="0.0189292474445598" />
      <inertia
        ixx="6.26207958214669E-06"
        ixy="4.16063269704332E-21"
        ixz="9.04183867655086E-09"
        iyy="2.82510436257499E-06"
        iyz="-1.61817587776619E-20"
        izz="4.5184184333863E-06" />
    </inertial>
    <visual>
      <origin
        xyz="0 0 0"
        rpy="0 0 0" />
      <geometry>
        <mesh
          filename="package://okrobot_description/meshes/okrobot_base/motor_seat_Link1.STL" />
      </geometry>
      <material
        name="">
        <color
          rgba="0.792156862745098 0.819607843137255 0.933333333333333 1" />
      </material>
    </visual>
    <collision>
      <origin
        xyz="0 0 0"
        rpy="0 0 0" />
      <geometry>
        <mesh
          filename="package://okrobot_description/meshes/okrobot_base/motor_seat_Link1.STL" />
      </geometry>
    </collision>
  </link>
  <joint
    name="motor_seat_joint1"
    type="fixed">
    <origin
      xyz="0.1 -0.062 -0.00299999999999999"
      rpy="2.99234774727016E-65 -8.94466792300553E-17 -5.37368846090207E-34" />
    <parent
      link="base_link" />
    <child
      link="motor_seat_Link1" />
    <axis
      xyz="0 0 0" />
  </joint>
  <link
    name="motor_seat_Link2">
    <inertial>
      <origin
        xyz="0.000939237456581282 -2.4980018054066E-16 -0.0175085667959579"
        rpy="0 0 0" />
      <mass
        value="0.0189292474445598" />
      <inertia
        ixx="6.26207958214669E-06"
        ixy="4.4402508550729E-21"
        ixz="9.04183867655085E-09"
        iyy="2.82510436257499E-06"
        iyz="-1.60771184449615E-20"
        izz="4.5184184333863E-06" />
    </inertial>
    <visual>
      <origin
        xyz="0 0 0"
        rpy="0 0 0" />
      <geometry>
        <mesh
          filename="package://okrobot_description/meshes/okrobot_base/motor_seat_Link2.STL" />
      </geometry>
      <material
        name="">
        <color
          rgba="0.792156862745098 0.819607843137255 0.933333333333333 1" />
      </material>
    </visual>
    <collision>
      <origin
        xyz="0 0 0"
        rpy="0 0 0" />
      <geometry>
        <mesh
          filename="package://okrobot_description/meshes/okrobot_base/motor_seat_Link2.STL" />
      </geometry>
    </collision>
  </link>
  <joint
    name="motor_seat_joint2"
    type="fixed">
    <origin
      xyz="0.1 0.0619999999999999 -0.00299999999999999"
      rpy="2.99234774727016E-65 -8.94466792300553E-17 -5.37368846090207E-34" />
    <parent
      link="base_link" />
    <child
      link="motor_seat_Link2" />
    <axis
      xyz="0 0 0" />
  </joint>
  <link
    name="motor_seat_plate_Link2">
    <inertial>
      <origin
        xyz="-0.0370584293025813 -8.32667268468867E-17 3.46944695195361E-18"
        rpy="0 0 0" />
      <mass
        value="0.0163676977252262" />
      <inertia
        ixx="7.37038999362734E-07"
        ixy="6.19617960358366E-21"
        ixz="-2.75471047737358E-22"
        iyy="4.75627979379093E-06"
        iyz="-1.39657082172747E-23"
        izz="4.75627979379093E-06" />
    </inertial>
    <visual>
      <origin
        xyz="0 0 0"
        rpy="0 0 0" />
      <geometry>
        <mesh
          filename="package://okrobot_description/meshes/okrobot_base/motor_seat_plate_Link2.STL" />
      </geometry>
      <material
        name="">
        <color
          rgba="0.529411764705882 0.549019607843137 0.549019607843137 1" />
      </material>
    </visual>
    <collision>
      <origin
        xyz="0 0 0"
        rpy="0 0 0" />
      <geometry>
        <mesh
          filename="package://okrobot_description/meshes/okrobot_base/motor_seat_plate_Link2.STL" />
      </geometry>
    </collision>
  </link>
  <joint
    name="motor_seat_plate_joint2"
    type="fixed">
    <origin
      xyz="0.00900000000000004 0 -0.017"
      rpy="-9.35108671021913E-67 0 0" />
    <parent
      link="motor_seat_Link2" />
    <child
      link="motor_seat_plate_Link2" />
    <axis
      xyz="0 0 0" />
  </joint>
  <link
    name="motor_plate_frame_Link2">
    <inertial>
      <origin
        xyz="9.51502459658867E-17 -0.0407081867798832 0.0507536404432316"
        rpy="0 0 0" />
      <mass
        value="0.152933426878464" />
      <inertia
        ixx="0.000291366836290034"
        ixy="2.78788862513485E-19"
        ixz="-1.76183127003108E-19"
        iyy="0.000361614923679843"
        iyz="2.87845041329262E-05"
        izz="0.000421194704644508" />
    </inertial>
    <visual>
      <origin
        xyz="0 0 0"
        rpy="0 0 0" />
      <geometry>
        <mesh
          filename="package://okrobot_description/meshes/okrobot_base/motor_plate_frame_Link2.STL" />
      </geometry>
      <material
        name="">
        <color
          rgba="0 0.501960784313725 1 1" />
      </material>
    </visual>
    <collision>
      <origin
        xyz="0 0 0"
        rpy="0 0 0" />
      <geometry>
        <mesh
          filename="package://okrobot_description/meshes/okrobot_base/motor_plate_frame_Link2.STL" />
      </geometry>
    </collision>
  </link>
  <joint
    name="motor_plate_frame_joint2"
    type="fixed">
    <origin
      xyz="-0.109 0.0799999999999998 -0.027"
      rpy="-9.35108671021913E-67 0 0" />
    <parent
      link="motor_seat_plate_Link2" />
    <child
      link="motor_plate_frame_Link2" />
    <axis
      xyz="0 0 0" />
  </joint>
  <link
    name="motor_frame_plate_Link2">
    <inertial>
      <origin
        xyz="0.0370584293025813 2.77555756156289E-17 0"
        rpy="0 0 0" />
      <mass
        value="0.0163676977252262" />
      <inertia
        ixx="7.37038999362734E-07"
        ixy="5.6960704788644E-21"
        ixz="6.55842504374358E-23"
        iyy="4.75627979379093E-06"
        iyz="1.77790920063902E-25"
        izz="4.75627979379093E-06" />
    </inertial>
    <visual>
      <origin
        xyz="0 0 0"
        rpy="0 0 0" />
      <geometry>
        <mesh
          filename="package://okrobot_description/meshes/okrobot_base/motor_frame_plate_Link2.STL" />
      </geometry>
      <material
        name="">
        <color
          rgba="0.529411764705882 0.549019607843137 0.549019607843137 1" />
      </material>
    </visual>
    <collision>
      <origin
        xyz="0 0 0"
        rpy="0 0 0" />
      <geometry>
        <mesh
          filename="package://okrobot_description/meshes/okrobot_base/motor_frame_plate_Link2.STL" />
      </geometry>
    </collision>
  </link>
  <joint
    name="motor_frame_plate_joint2"
    type="fixed">
    <origin
      xyz="-0.109 -0.0800000000000002 0.027"
      rpy="-9.35108671021913E-67 0 0" />
    <parent
      link="motor_plate_frame_Link2" />
    <child
      link="motor_frame_plate_Link2" />
    <axis
      xyz="0 0 0" />
  </joint>
  <link
    name="motor_frame_forward_Link2">
    <inertial>
      <origin
        xyz="2.28823057409346E-07 -0.0217822138287097 2.17578695960157E-05"
        rpy="0 0 0" />
      <mass
        value="0.262675015460882" />
      <inertia
        ixx="0.000181760474130218"
        ixy="1.27919087561242E-09"
        ixz="1.02197362707824E-09"
        iyy="0.000277158837880514"
        iyz="-9.43925357548187E-07"
        izz="0.000181814109013925" />
    </inertial>
    <visual>
      <origin
        xyz="0 0 0"
        rpy="0 0 0" />
      <geometry>
        <mesh
          filename="package://okrobot_description/meshes/okrobot_base/motor_frame_forward_Link2.STL" />
      </geometry>
      <material
        name="">
        <color
          rgba="0.792156862745098 0.819607843137255 0.933333333333333 1" />
      </material>
    </visual>
    <collision>
      <origin
        xyz="0 0 0"
        rpy="0 0 0" />
      <geometry>
        <mesh
          filename="package://okrobot_description/meshes/okrobot_base/motor_frame_forward_Link2.STL" />
      </geometry>
    </collision>
  </link>
  <joint
    name="motor_frame_forward_joint2"
    type="fixed">
    <origin
      xyz="0 -0.005 0.040000000000002"
      rpy="-9.35108671021913E-67 0 0" />
    <parent
      link="motor_plate_frame_Link2" />
    <child
      link="motor_frame_forward_Link2" />
    <axis
      xyz="0 0 0" />
  </joint>
  <link
    name="motor_back_Link2">
    <inertial>
      <origin
        xyz="-1.27726567868348E-06 -0.0202811504403952 0.00120300473583097"
        rpy="0 0 0" />
      <mass
        value="0.254768799165078" />
      <inertia
        ixx="0.000170091511491632"
        ixy="7.15155895351654E-09"
        ixz="5.88047241021185E-10"
        iyy="0.000246895063025195"
        iyz="-1.6541588866754E-06"
        izz="0.000157235815301286" />
    </inertial>
    <visual>
      <origin
        xyz="0 0 0"
        rpy="0 0 0" />
      <geometry>
        <mesh
          filename="package://okrobot_description/meshes/okrobot_base/motor_back_Link2.STL" />
      </geometry>
      <material
        name="">
        <color
          rgba="0.792156862745098 0.819607843137255 0.933333333333333 1" />
      </material>
    </visual>
    <collision>
      <origin
        xyz="0 0 0"
        rpy="0 0 0" />
      <geometry>
        <mesh
          filename="package://okrobot_description/meshes/okrobot_base/motor_back_Link2.STL" />
      </geometry>
    </collision>
  </link>
  <joint
    name="motor_back_joint2"
    type="fixed">
    <origin
      xyz="0 -0.046 0"
      rpy="-9.35108671021913E-67 0 0" />
    <parent
      link="motor_frame_forward_Link2" />
    <child
      link="motor_back_Link2" />
    <axis
      xyz="0 0 0" />
  </joint>
  <link
    name="motor_axiz_Link2">
    <inertial>
      <origin
        xyz="0.000108047675569175 0.0249080655234863 0.000137924732168528"
        rpy="0 0 0" />
      <mass
        value="0.0117504819322063" />
      <inertia
        ixx="3.21300808973236E-06"
        ixy="2.63264413969893E-08"
        ixz="-5.88240342306959E-09"
        iyy="4.38059866460302E-07"
        iyz="3.36062601631709E-08"
        izz="3.2159089120182E-06" />
    </inertial>
    <visual>
      <origin
        xyz="0 0 0"
        rpy="0 0 0" />
      <geometry>
        <mesh
          filename="package://okrobot_description/meshes/okrobot_base/motor_axiz_Link2.STL" />
      </geometry>
      <material
        name="">
        <color
          rgba="0.792156862745098 0.819607843137255 0.933333333333333 1" />
      </material>
    </visual>
    <collision>
      <origin
        xyz="0 0 0"
        rpy="0 0 0" />
      <geometry>
        <mesh
          filename="package://okrobot_description/meshes/okrobot_base/motor_axiz_Link2.STL" />
      </geometry>
    </collision>
  </link>
  <joint
    name="motor_axiz_joint2"
    type="fixed">
    <origin
      xyz="0 -0.023 -0.013"
      rpy="-9.35108671021913E-67 0 0" />
    <parent
      link="motor_frame_forward_Link2" />
    <child
      link="motor_axiz_Link2" />
    <axis
      xyz="0 0 0" />
  </joint>
  <link
    name="axiz_key_Link2">
    <inertial>
      <origin
        xyz="0.00154170812433583 0.0102363418468253 0.00196802847016329"
        rpy="0 0 0" />
      <mass
        value="0.000596379789496703" />
      <inertia
        ixx="3.07323050884441E-08"
        ixy="1.29898893159055E-20"
        ixz="1.00077913040345E-11"
        iyy="2.37011369366893E-09"
        iyz="-3.04731482302114E-20"
        izz="3.07273697687849E-08" />
    </inertial>
    <visual>
      <origin
        xyz="0 0 0"
        rpy="0 0 0" />
      <geometry>
        <mesh
          filename="package://okrobot_description/meshes/okrobot_base/axiz_key_Link2.STL" />
      </geometry>
      <material
        name="">
        <color
          rgba="0.792156862745098 0.819607843137255 0.933333333333333 1" />
      </material>
    </visual>
    <collision>
      <origin
        xyz="0 0 0"
        rpy="0 0 0" />
      <geometry>
        <mesh
          filename="package://okrobot_description/meshes/okrobot_base/axiz_key_Link2.STL" />
      </geometry>
    </collision>
  </link>
  <joint
    name="axiz_key_joint2"
    type="fixed">
    <origin
      xyz="-0.00585849087247598 0.0355 -0.00747850818660489"
      rpy="-9.35108671021913E-67 0 0" />
    <parent
      link="motor_axiz_Link2" />
    <child
      link="axiz_key_Link2" />
    <axis
      xyz="0 0 0" />
  </joint>
  <link
    name="axiz_flat_Link2">
    <inertial>
      <origin
        xyz="6.27241187684841E-18 -0.00571246103379328 -6.93889390390723E-18"
        rpy="0 0 0" />
      <mass
        value="0.0174717895193497" />
      <inertia
        ixx="2.82149851734939E-06"
        ixy="3.40495447414916E-21"
        ixz="4.05342733957991E-22"
        iyy="5.22266278242471E-06"
        iyz="-3.56560598507027E-23"
        izz="2.82149851734939E-06" />
    </inertial>
    <visual>
      <origin
        xyz="0 0 0"
        rpy="0 0 0" />
      <geometry>
        <mesh
          filename="package://okrobot_description/meshes/okrobot_base/axiz_flat_Link2.STL" />
      </geometry>
      <material
        name="">
        <color
          rgba="0.647058823529412 0.517647058823529 0 1" />
      </material>
    </visual>
    <collision>
      <origin
        xyz="0 0 0"
        rpy="0 0 0" />
      <geometry>
        <mesh
          filename="package://okrobot_description/meshes/okrobot_base/axiz_flat_Link2.STL" />
      </geometry>
    </collision>
  </link>
  <joint
    name="axiz_flat_joint2"
    type="fixed">
    <origin
      xyz="0 0.075 0"
      rpy="-9.35108671021913E-67 0 0" />
    <parent
      link="motor_axiz_Link2" />
    <child
      link="axiz_flat_Link2" />
    <axis
      xyz="0 0 0" />
  </joint>
  <link
    name="flat_forward_Link2">
    <inertial>
      <origin
        xyz="4.35378905103114E-05 0.0213755034456513 5.55772260732827E-05"
        rpy="0 0 0" />
      <mass
        value="0.0413400219550374" />
      <inertia
        ixx="1.36412767853152E-05"
        ixy="-8.46062552959181E-09"
        ixz="-1.19540642861288E-08"
        iyy="2.35587844456605E-05"
        iyz="-1.08002775013299E-08"
        izz="1.36471718338152E-05" />
    </inertial>
    <visual>
      <origin
        xyz="0 0 0"
        rpy="0 0 0" />
      <geometry>
        <mesh
          filename="package://okrobot_description/meshes/okrobot_base/flat_forward_Link2.STL" />
      </geometry>
      <material
        name="">
        <color
          rgba="0.776470588235294 0.756862745098039 0.737254901960784 1" />
      </material>
    </visual>
    <collision>
      <origin
        xyz="0 0 0"
        rpy="0 0 0" />
      <geometry>
        <mesh
          filename="package://okrobot_description/meshes/okrobot_base/flat_forward_Link2.STL" />
      </geometry>
    </collision>
  </link>
  <joint
    name="flat_forward_joint2"
    type="fixed">
    <origin
      xyz="0 -0.041 0"
      rpy="-9.35108671021913E-67 0 0" />
    <parent
      link="axiz_flat_Link2" />
    <child
      link="flat_forward_Link2" />
    <axis
      xyz="0 0 0" />
  </joint>
  <link
    name="left_wheel_Link">
    <inertial>
      <origin
        xyz="-1.23476305372268E-11 8.32667268468867E-17 1.80704409769028E-12"
        rpy="0 0 0" />
      <mass
        value="0.474314075022243" />
      <inertia
        ixx="0.000976484826943808"
        ixy="2.43786785796448E-11"
        ixz="-6.20683473317549E-20"
        iyy="0.00180041098789272"
        iyz="1.69371470811485E-10"
        izz="0.000976484826943808" />
    </inertial>
    <visual>
      <origin
        xyz="0 0 0"
        rpy="0 0 0" />
      <geometry>
        <mesh
          filename="package://okrobot_description/meshes/okrobot_base/left_wheel_Link.STL" />
      </geometry>
      <material
        name="">
        <color
          rgba="0.282352941176471 0.662745098039216 0.325490196078431 1" />
      </material>
    </visual>
    <collision>
      <origin
        xyz="0 0 0"
        rpy="0 0 0" />
      <geometry>
        <mesh
          filename="package://okrobot_description/meshes/okrobot_base/left_wheel_Link.STL" />
      </geometry>
    </collision>
  </link>
  <joint
    name="left_wheel_joint"
    type="continuous">
    <origin
      xyz="0 0.028 0"
      rpy="-9.35108671021913E-67 0 0" />
    <parent
      link="flat_forward_Link2" />
    <child
      link="left_wheel_Link" />
    <axis
      xyz="0 -1 0" />
  </joint>
  <link
    name="side_plate_Link2">
    <inertial>
      <origin
        xyz="-0.0127315168909434 -2.77555756156289E-17 0.0069290838223811"
        rpy="0 0 0" />
      <mass
        value="0.00846676231560678" />
      <inertia
        ixx="1.04396615516138E-06"
        ixy="2.36203599371061E-22"
        ixz="3.83681883410376E-07"
        iyy="1.53404870661137E-06"
        iyz="2.61613128884021E-22"
        izz="1.74991797213631E-06" />
    </inertial>
    <visual>
      <origin
        xyz="0 0 0"
        rpy="0 0 0" />
      <geometry>
        <mesh
          filename="package://okrobot_description/meshes/okrobot_base/side_plate_Link2.STL" />
      </geometry>
      <material
        name="">
        <color
          rgba="1 0.807843137254902 0.498039215686275 1" />
      </material>
    </visual>
    <collision>
      <origin
        xyz="0 0 0"
        rpy="0 0 0" />
      <geometry>
        <mesh
          filename="package://okrobot_description/meshes/okrobot_base/side_plate_Link2.STL" />
      </geometry>
    </collision>
  </link>
  <joint
    name="side_plate_joint2"
    type="fixed">
    <origin
      xyz="-0.05 -0.0150000000000001 0.065"
      rpy="-9.35108671021913E-67 0 0" />
    <parent
      link="motor_plate_frame_Link2" />
    <child
      link="side_plate_Link2" />
    <axis
      xyz="0 0 0" />
  </joint>
  <link
    name="side_plate_Link3">
    <inertial>
      <origin
        xyz="0.0127315168909434 2.77555756156289E-17 0.0069290838223811"
        rpy="0 0 0" />
      <mass
        value="0.00846676231560678" />
      <inertia
        ixx="1.04396615516138E-06"
        ixy="7.37250721511788E-22"
        ixz="-3.83681883410376E-07"
        iyy="1.53404870661137E-06"
        iyz="-7.09693423932732E-22"
        izz="1.74991797213631E-06" />
    </inertial>
    <visual>
      <origin
        xyz="0 0 0"
        rpy="0 0 0" />
      <geometry>
        <mesh
          filename="package://okrobot_description/meshes/okrobot_base/side_plate_Link3.STL" />
      </geometry>
      <material
        name="">
        <color
          rgba="1 0.807843137254902 0.498039215686275 1" />
      </material>
    </visual>
    <collision>
      <origin
        xyz="0 0 0"
        rpy="0 0 0" />
      <geometry>
        <mesh
          filename="package://okrobot_description/meshes/okrobot_base/side_plate_Link3.STL" />
      </geometry>
    </collision>
  </link>
  <joint
    name="side_plate_joint3"
    type="fixed">
    <origin
      xyz="0.05 -0.015 0.065"
      rpy="-9.35108671021913E-67 0 0" />
    <parent
      link="motor_plate_frame_Link2" />
    <child
      link="side_plate_Link3" />
    <axis
      xyz="0 0 0" />
  </joint>
  <link
    name="motor_seat_Link3">
    <inertial>
      <origin
        xyz="-0.00093923745658131 2.4980018054066E-16 -0.0175085667959579"
        rpy="0 0 0" />
      <mass
        value="0.0189292474445598" />
      <inertia
        ixx="6.26207958214669E-06"
        ixy="-7.91606136555118E-22"
        ixz="-9.04183867655049E-09"
        iyy="2.82510436257498E-06"
        iyz="1.5949123561084E-20"
        izz="4.5184184333863E-06" />
    </inertial>
    <visual>
      <origin
        xyz="0 0 0"
        rpy="0 0 0" />
      <geometry>
        <mesh
          filename="package://okrobot_description/meshes/okrobot_base/motor_seat_Link3.STL" />
      </geometry>
      <material
        name="">
        <color
          rgba="0.792156862745098 0.819607843137255 0.933333333333333 1" />
      </material>
    </visual>
    <collision>
      <origin
        xyz="0 0 0"
        rpy="0 0 0" />
      <geometry>
        <mesh
          filename="package://okrobot_description/meshes/okrobot_base/motor_seat_Link3.STL" />
      </geometry>
    </collision>
  </link>
  <joint
    name="motor_seat_joint3"
    type="fixed">
    <origin
      xyz="-0.1 0.062 -0.00300000000000001"
      rpy="2.99234774727016E-65 -8.94466792300553E-17 -5.37368846090207E-34" />
    <parent
      link="base_link" />
    <child
      link="motor_seat_Link3" />
    <axis
      xyz="0 0 0" />
  </joint>
  <link
    name="circle_base_Link">
    <inertial>
      <origin
        xyz="-0.00076108105272211 9.21930093191199E-15 -0.0244358155851677"
        rpy="0 0 0" />
      <mass
        value="0.31660081903988" />
      <inertia
        ixx="0.0089126717791964"
        ixy="1.4726534098742E-16"
        ixz="5.98799315902429E-05"
        iyy="0.0100388621055402"
        iyz="-3.40316927391112E-17"
        izz="0.0185817131208827" />
    </inertial>
    <visual>
      <origin
        xyz="0 0 0"
        rpy="0 0 0" />
      <geometry>
        <mesh
          filename="package://okrobot_description/meshes/okrobot_base/circle_base_Link.STL" />
      </geometry>
      <material
        name="">
        <color
          rgba="0.792156862745098 0.819607843137255 0.933333333333333 1" />
      </material>
    </visual>
    <collision>
      <origin
        xyz="0 0 0"
        rpy="0 0 0" />
      <geometry>
        <mesh
          filename="package://okrobot_description/meshes/okrobot_base/circle_base_Link.STL" />
      </geometry>
    </collision>
  </link>
  <joint
    name="circle_base_joint"
    type="fixed">
    <origin
      xyz="0 0 -0.0045"
      rpy="-4.66093176285631E-50 0 0" />
    <parent
      link="base_link" />
    <child
      link="circle_base_Link" />
    <axis
      xyz="0 0 0" />
  </joint>
  <link
    name="circle_forward_Link">
    <inertial>
      <origin
        xyz="0.0263368386860516 -1.88632172647896E-06 -0.00941398138990095"
        rpy="0 0 0" />
      <mass
        value="0.0603777724846717" />
      <inertia
        ixx="0.000321843328628098"
        ixy="9.79136075759779E-10"
        ixz="-1.00531201828065E-05"
        iyy="6.69281139840023E-05"
        iyz="-1.14263148473526E-09"
        izz="0.000306984664111483" />
    </inertial>
    <visual>
      <origin
        xyz="0 0 0"
        rpy="0 0 0" />
      <geometry>
        <mesh
          filename="package://okrobot_description/meshes/okrobot_base/circle_forward_Link.STL" />
      </geometry>
      <material
        name="">
        <color
          rgba="0.792156862745098 0.819607843137255 0.933333333333333 1" />
      </material>
    </visual>
    <collision>
      <origin
        xyz="0 0 0"
        rpy="0 0 0" />
      <geometry>
        <mesh
          filename="package://okrobot_description/meshes/okrobot_base/circle_forward_Link.STL" />
      </geometry>
    </collision>
  </link>
  <joint
    name="circle_forward_joint"
    type="fixed">
    <origin
      xyz="0.219 0 -0.037"
      rpy="-4.66093176285631E-50 0 0" />
    <parent
      link="circle_base_Link" />
    <child
      link="circle_forward_Link" />
    <axis
      xyz="0 0 0" />
  </joint>
  <link
    name="laser_base_Link">
    <inertial>
      <origin
        xyz="0.152704856032779 -0.0619959373186847 -0.041828429582524"
        rpy="0 0 0" />
      <mass
        value="0.140285732636436" />
      <inertia
        ixx="7.7979605164669E-05"
        ixy="-4.78484403510774E-08"
        ixz="-6.69375321245217E-07"
        iyy="7.96851388669455E-05"
        iyz="-1.12154884318809E-08"
        izz="4.95092058398904E-05" />
    </inertial>
    <visual>
      <origin
        xyz="0 0 0"
        rpy="0 0 0" />
      <geometry>
        <mesh
          filename="package://okrobot_description/meshes/okrobot_base/laser_base_Link.STL" />
      </geometry>
      <material
        name="">
        <color
          rgba="0.0980392156862745 0.0980392156862745 0.0980392156862745 1" />
      </material>
    </visual>
    <collision>
      <origin
        xyz="0 0 0"
        rpy="0 0 0" />
      <geometry>
        <mesh
          filename="package://okrobot_description/meshes/okrobot_base/laser_base_Link.STL" />
      </geometry>
    </collision>
  </link>
  <joint
    name="laser_base_joint"
    type="fixed">
    <origin
      xyz="-0.119 0.062 0.0385"
      rpy="2.99234774727016E-65 -8.94466792300553E-17 -5.37368846090207E-34" />
    <parent
      link="circle_forward_Link" />
    <child
      link="laser_base_Link" />
    <axis
      xyz="0 0 0" />
  </joint>
</robot>
